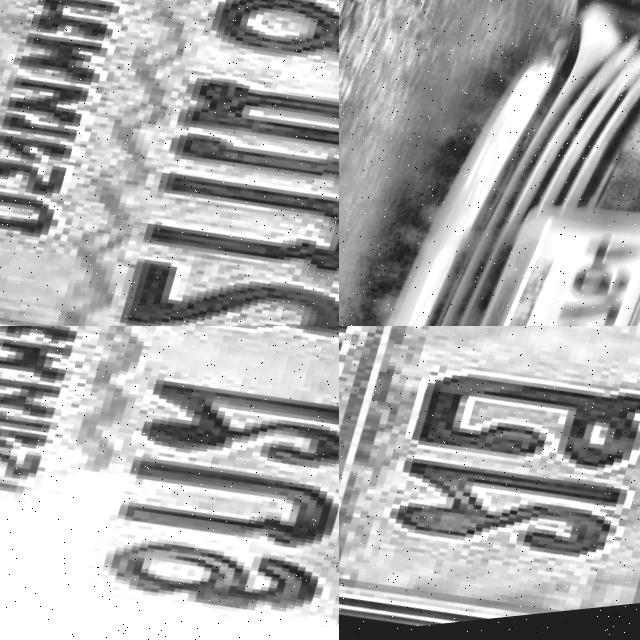license-plate: (0, 0, 339, 326), (0, 326, 339, 640), (339, 326, 640, 640), (416, 175, 640, 326)
